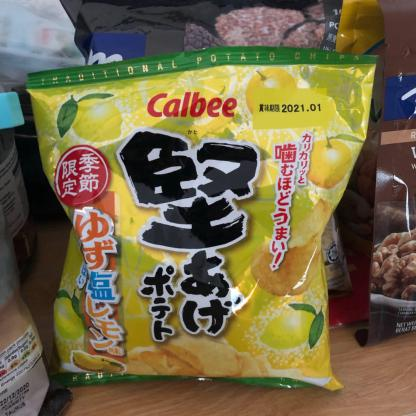potatochip: (11, 40, 384, 402)
